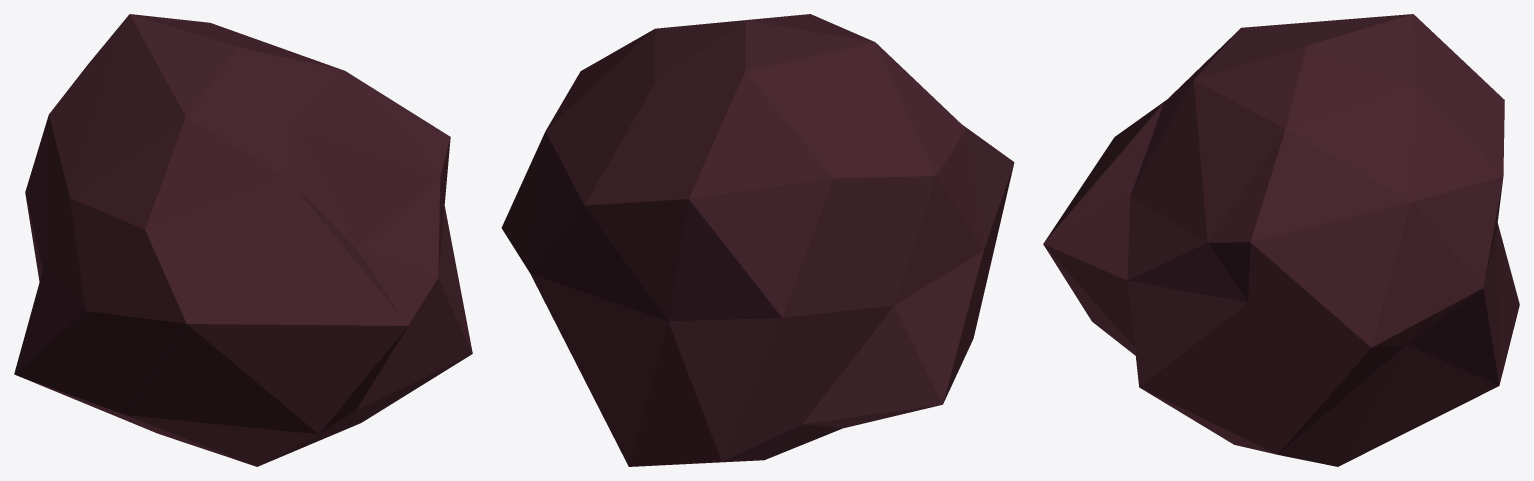
The model's file is asteroid.glb.
3 renders of one model, left to right at view 1: azimuth 30°, elevation 25°; view 2: azimuth 150°, elevation 25°; view 3: azimuth 270°, elevation 25°, orthographic. The views are drawn at different scales.
Visible parts, largest first — view 1: Icosphere; view 2: Icosphere; view 3: Icosphere.
Boxes of the visible parts, x1,y1,x2,y2 form: Icosphere: [14, 14, 472, 466]; Icosphere: [501, 14, 1014, 466]; Icosphere: [1043, 14, 1519, 466].
Size of the model in its own units: 2.05 by 1.97 by 2.19.
